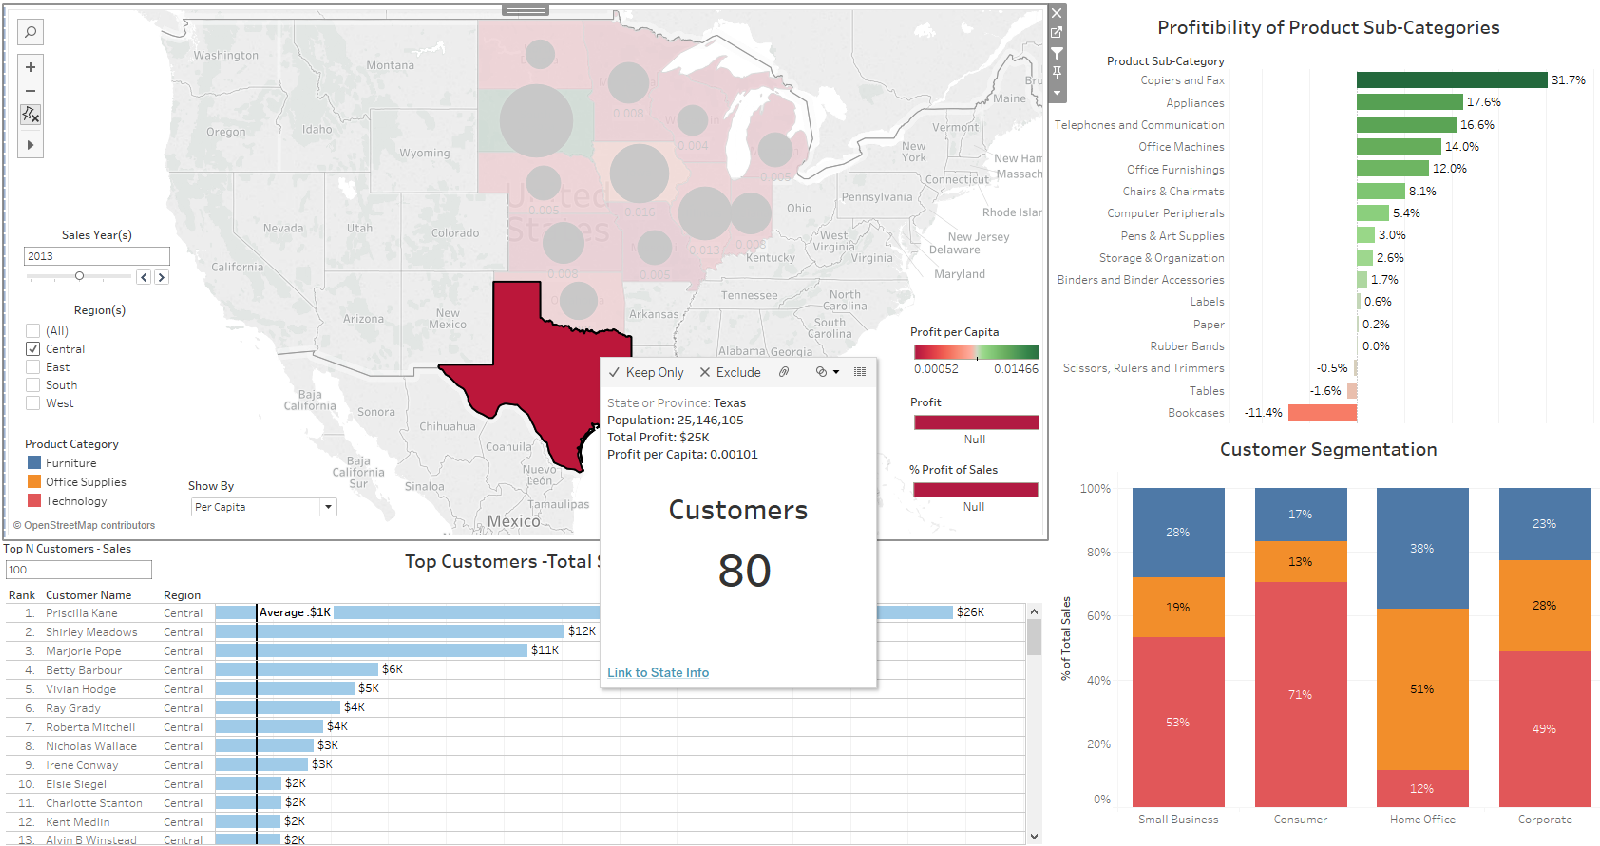

The page's visual inventory and layout, read from the dashboard file:
{"tool":"tableau","page":{"name":"Assessment 3 - Dashboard","canvas":[1000,1000],"units":"permille","ordinal":0},"visuals":[{"type":"worksheet","title":"Profitable","mark":"Automatic","box":[4.7,8.8,0.6,621.6]},{"type":"worksheet","title":"Total Sales","mark":"Automatic","box":[5.3,8.8,0.6,621.6]},{"type":"worksheet","title":"Per Capita","mark":"Automatic","box":[5.9,8.8,642.4,621.6]},{"type":"worksheet","title":"Profitibility of Product Sub-Categories","mark":"Automatic","rows":["Product Sub-Category"],"cols":["Profit"],"box":[648.3,8.8,347,491.2]},{"type":"filter","title":"Customer Segmentation","param":"[federated.1vdtpcq09alfia0zlsv5y04r5ajv].[yr:Order Date:ok]","box":[16.4,266.6,93.6,74.1]},{"type":"filter","title":"Customer Segmentation","param":"[federated.1vdtpcq09alfia0zlsv5y04r5ajv].[none:Region:nk]","box":[15.8,354,98.3,140.5]},{"type":"legend","title":"Per Capita","param":"[federated.1vdtpcq09alfia0zlsv5y04r5ajv].[usr:Calculation_867224409597616128:qk]","box":[564.1,379.4,81.9,84.1]},{"type":"legend","title":"Total Sales","param":"[federated.1vdtpcq09alfia0zlsv5y04r5ajv].[sum:Profit:qk]","box":[564.1,461.3,81.9,84.1]},{"type":"worksheet","title":"Customer Segmentation","mark":"Automatic","cols":["Customer Segment"],"box":[648.3,500,347,491.2]},{"type":"legend","title":"Customer Segmentation","param":"[federated.1vdtpcq09alfia0zlsv5y04r5ajv].[none:Product Category:nk]","box":[18.7,510,81.9,86.3]},{"type":"legend","title":"Profitable","param":"[federated.1vdtpcq09alfia0zlsv5y04r5ajv].[usr:Calculation_130885870573232128:qk]","box":[563.5,539.8,81.9,84.1]},{"type":"parameter","param":"[Parameters].[Parameter 3]","box":[119.4,558.6,93.6,48.7]},{"type":"worksheet","title":"Top Customers -Total Sales","mark":"Automatic","rows":["Calculation_1109855837082505217","Customer Name","Region"],"cols":["Sales"],"box":[4.7,630.5,643.6,360.7]},{"type":"parameter","param":"[Parameters].[Parameter 1]","box":[5.3,631.6,93.6,48.7]}]}

Visuals, with their boxes on the dashboard's canvas, which has no fixed pixel size, in thousandths of its width and height (x1, y1, x2, y2). These are canvas units, not pixel positions in the 1600x846 screenshot, which may show the page scaled, cropped or inside an application window:
"Profitable" worksheet: <region>5, 9, 5, 630</region>
"Total Sales" worksheet: <region>5, 9, 6, 630</region>
"Per Capita" worksheet: <region>6, 9, 648, 630</region>
"Profitibility of Product Sub-Categories" worksheet: <region>648, 9, 995, 500</region>
"Customer Segmentation" filter: <region>16, 267, 110, 341</region>
"Customer Segmentation" filter: <region>16, 354, 114, 494</region>
"Per Capita" legend: <region>564, 379, 646, 464</region>
"Total Sales" legend: <region>564, 461, 646, 545</region>
"Customer Segmentation" worksheet: <region>648, 500, 995, 991</region>
"Customer Segmentation" legend: <region>19, 510, 101, 596</region>
"Profitable" legend: <region>564, 540, 645, 624</region>
parameter: <region>119, 559, 213, 607</region>
"Top Customers -Total Sales" worksheet: <region>5, 630, 648, 991</region>
parameter: <region>5, 632, 99, 680</region>
